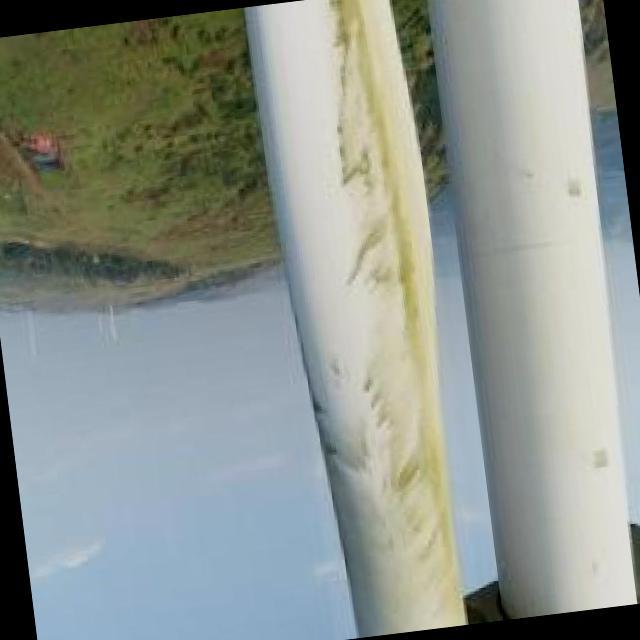Dirt: (249, 0, 467, 639)
